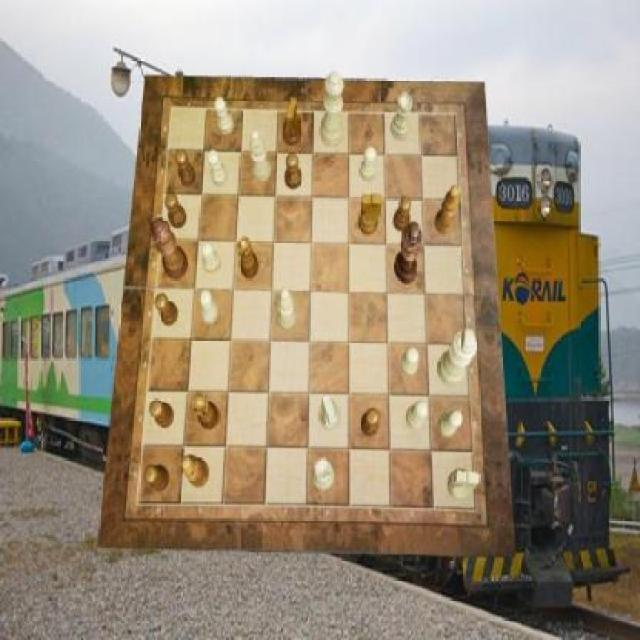bishop: (435, 184, 460, 236), (182, 456, 209, 490)
black-bishop: (394, 221, 421, 284)
black-king: (358, 194, 382, 236), (283, 97, 302, 146)
black-knight: (156, 294, 180, 328), (165, 192, 187, 228), (177, 149, 197, 188), (149, 400, 174, 428), (144, 466, 170, 492), (286, 154, 303, 190), (394, 197, 411, 231), (360, 409, 380, 437)
black-pawn: (151, 217, 188, 279)
black-queen: (237, 235, 259, 278), (194, 395, 220, 430)
black-rook: (249, 131, 272, 183), (277, 288, 297, 332)
white-bishop: (437, 329, 477, 387)
white-king: (448, 468, 480, 500), (318, 392, 341, 430)
white-knight: (208, 149, 228, 187), (214, 97, 234, 135), (406, 400, 429, 431), (198, 289, 218, 324), (202, 241, 222, 274), (439, 411, 463, 438), (359, 148, 376, 182), (400, 348, 419, 377)
white-pawn: (320, 73, 345, 148)
white-queen: (391, 94, 413, 140), (312, 458, 335, 491)
